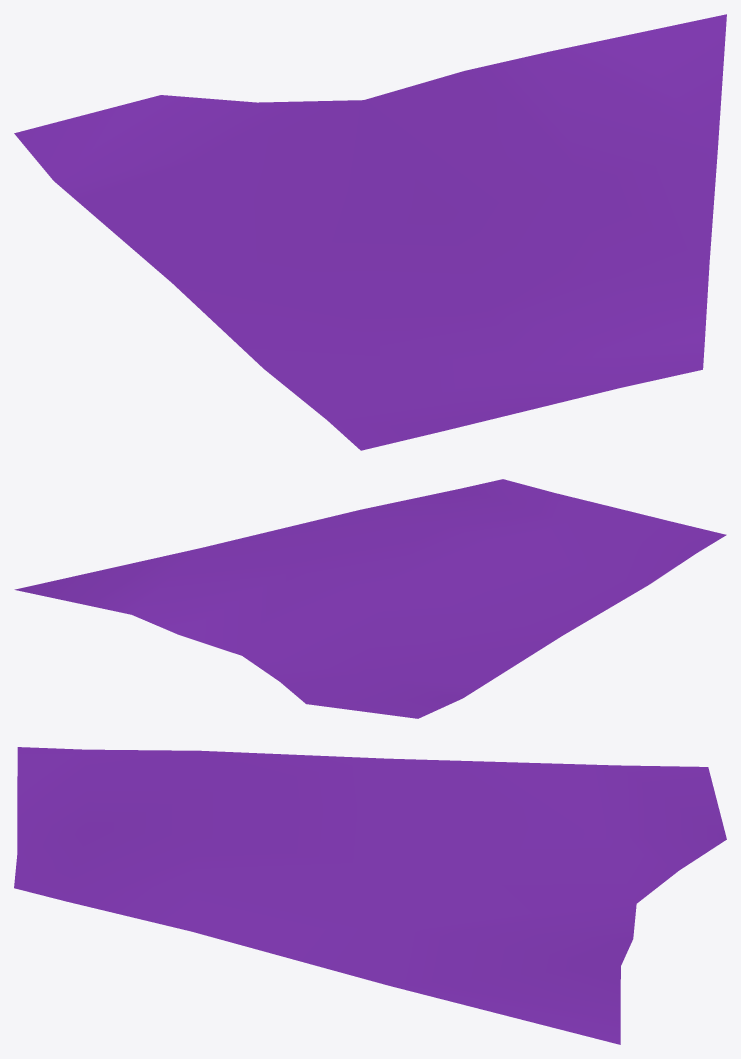
3 views of the same model, one above another, from view 1: azimuth 30°, elevation 25°; view 2: azimuth 150°, elevation 25°; view 3: azimuth 270°, elevation 25° (orthographic). The views are drawn at different scales.
Parts seen in each view (by area): view 1: polySurface15; view 2: polySurface15; view 3: polySurface15.
Part boxes in pixels (left/top/right/bottom): polySurface15: left=14, top=14, right=726, bottom=450; polySurface15: left=14, top=479, right=726, bottom=718; polySurface15: left=14, top=747, right=726, bottom=1044.
Size of the model in its own units: 2761 by 63.74 by 2783.
